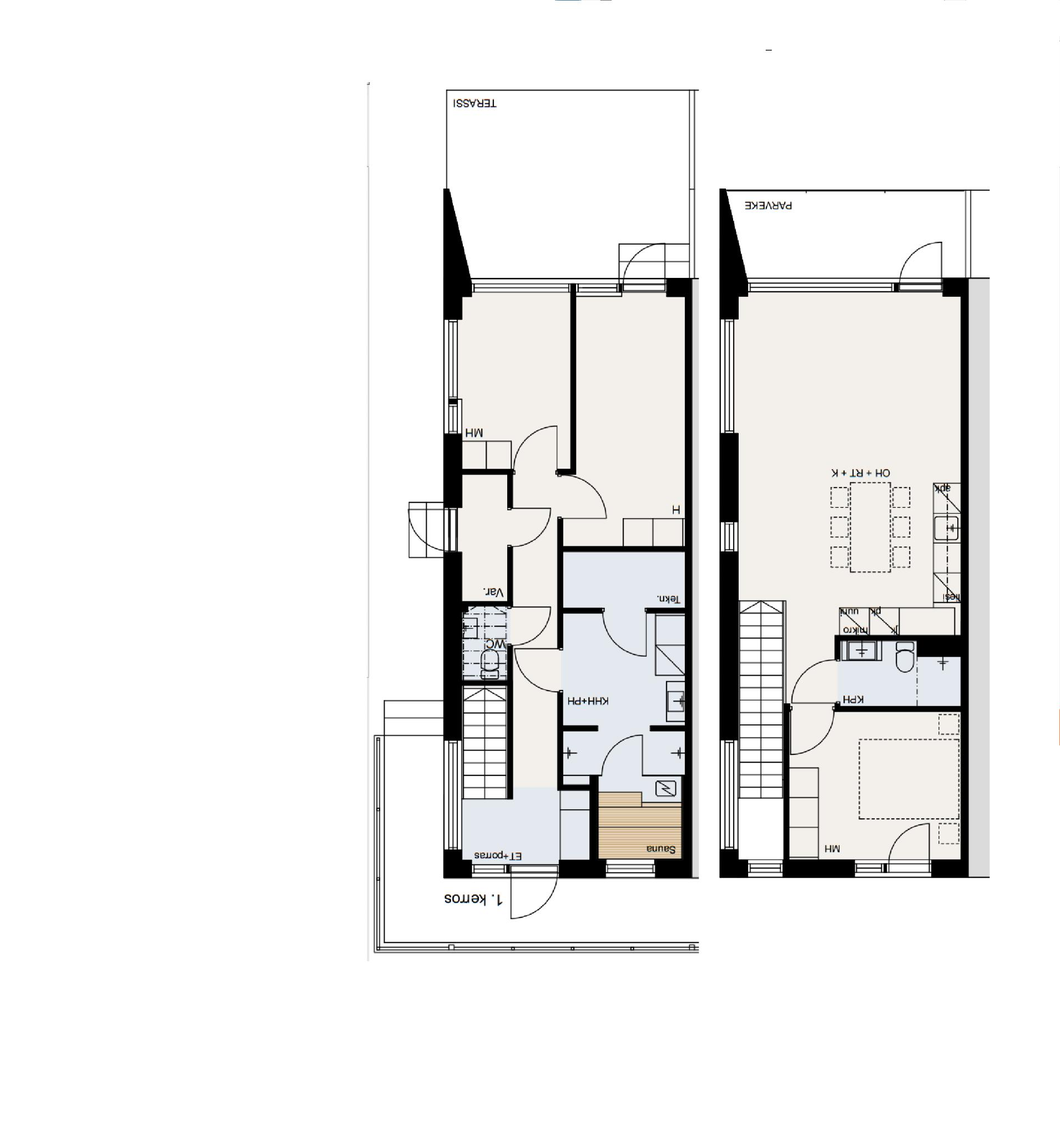door: (787, 657, 838, 750), (895, 233, 953, 294), (507, 420, 567, 475), (513, 861, 564, 925), (606, 606, 651, 667), (558, 475, 615, 522), (616, 246, 674, 290), (404, 507, 459, 548), (511, 646, 564, 688), (889, 822, 932, 873), (506, 605, 556, 645), (602, 733, 648, 776), (506, 508, 554, 547)
window: (748, 274, 899, 301), (472, 274, 621, 297), (716, 317, 739, 437), (720, 735, 743, 850), (442, 319, 463, 429), (445, 738, 466, 845), (606, 860, 659, 879), (747, 859, 785, 879), (718, 524, 740, 556), (476, 860, 511, 880), (853, 858, 884, 877)
zone: (739, 295, 967, 697), (445, 89, 691, 272), (574, 290, 687, 542), (783, 700, 953, 861), (465, 685, 594, 861), (455, 292, 573, 471), (457, 476, 562, 673), (561, 613, 681, 726), (735, 601, 787, 859), (838, 644, 963, 707), (562, 547, 684, 608), (600, 786, 686, 858), (565, 732, 684, 783)
